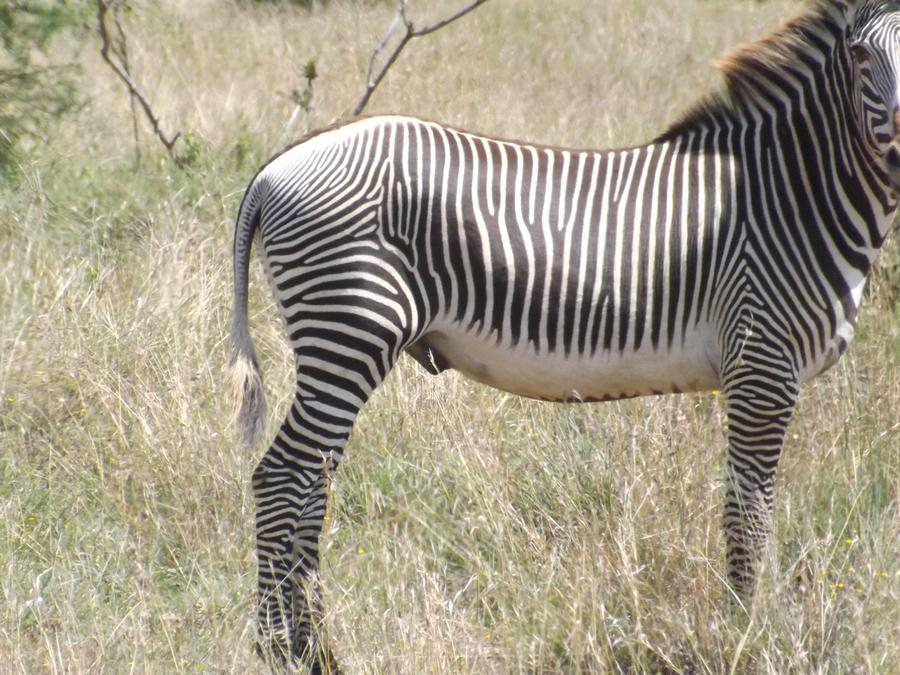zebra_grevys: (235, 92, 803, 396)
